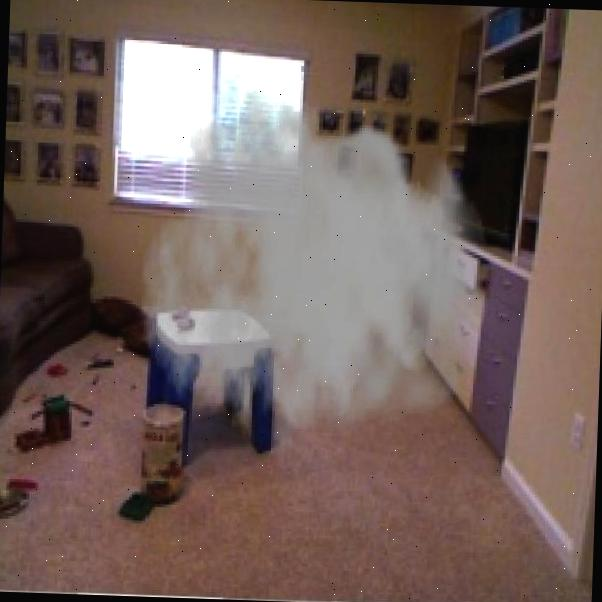smoke: (133, 83, 494, 481)
